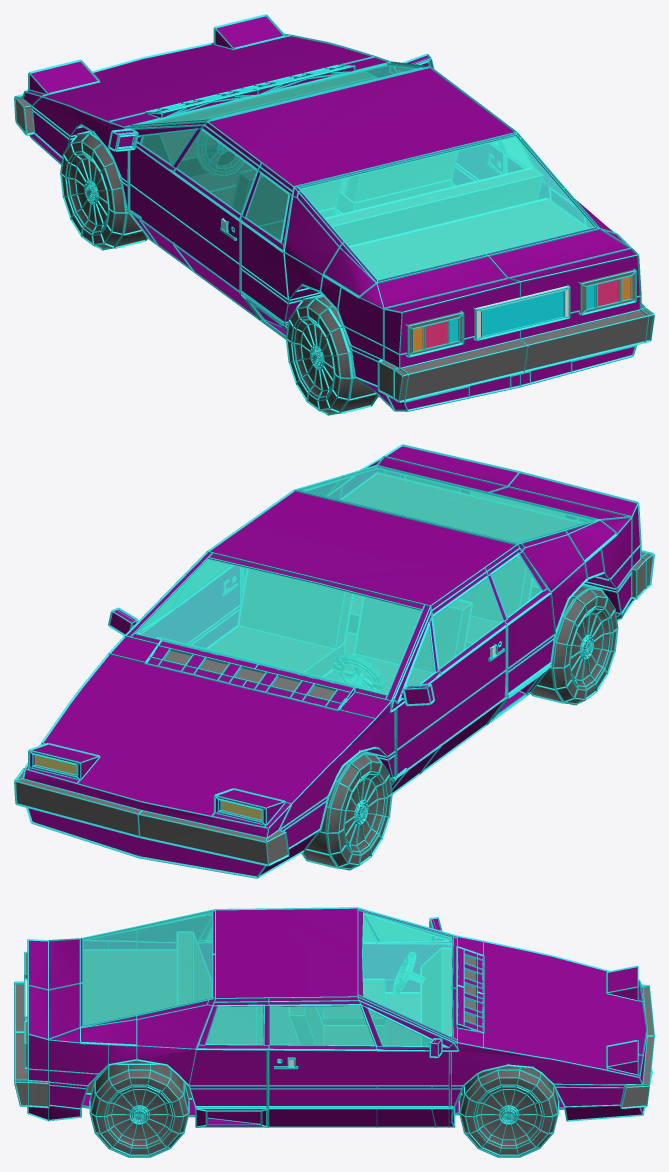
Rendered from retro_wave_lotus_espirit_sportcar.glb.
3 renders of one model, top to bottom at view 1: azimuth 30°, elevation 25°; view 2: azimuth 150°, elevation 25°; view 3: azimuth 270°, elevation 25°, orthographic. The views are drawn at different scales.
Visible parts, largest first — view 1: Lotus, Neon; view 2: Lotus, Neon; view 3: Lotus, Neon.
Part boxes in pixels (x1,y1,x2,y2): Lotus: (16, 16, 652, 413); Neon: (14, 14, 654, 415); Lotus: (16, 446, 652, 876); Neon: (14, 444, 654, 878); Lotus: (16, 908, 652, 1155); Neon: (14, 907, 654, 1157).
Size of what is drawn, in the model's own units: 378 by 210 by 792.
